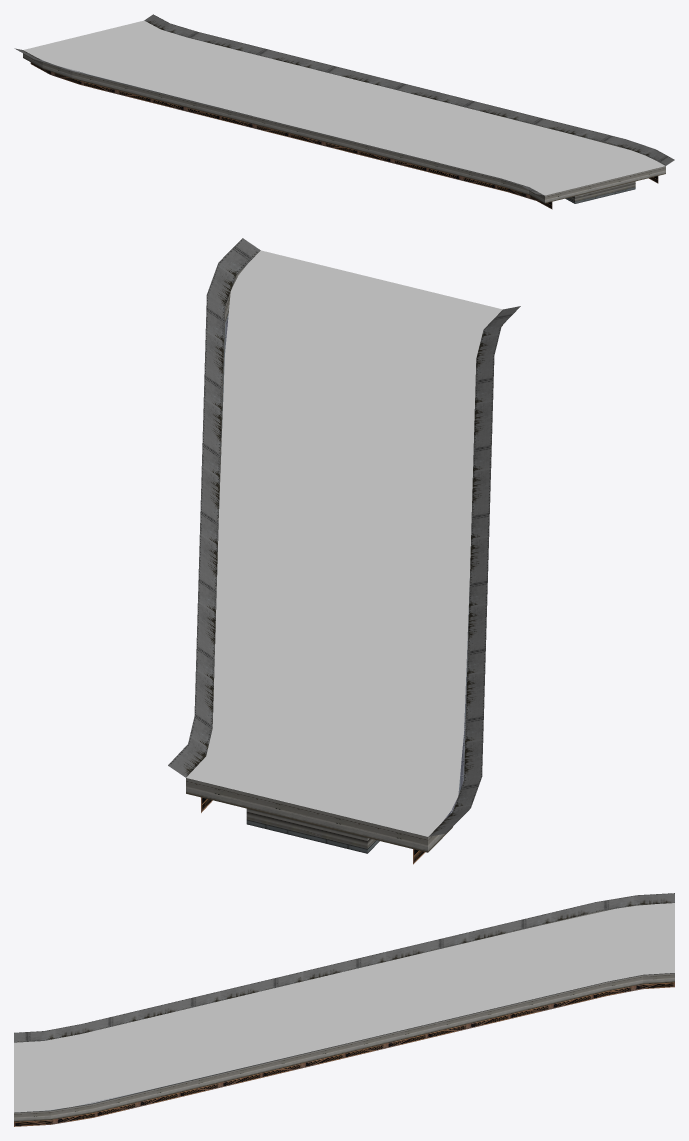
Rendered from Shear_L.fbx.
The picture shows the model from 3 angles, top to bottom: view 1: azimuth 30°, elevation 25°; view 2: azimuth 150°, elevation 25°; view 3: azimuth 270°, elevation 25°; orthographic projection. The views are drawn at different scales.
Visible parts, largest first — view 1: Empty_Mesh; view 2: Empty_Mesh; view 3: Empty_Mesh.
Part boxes in pixels (x1,y1,x2,y2): Empty_Mesh: (14,14,674,209); Empty_Mesh: (168,238,520,864); Empty_Mesh: (14,893,674,1126).
Bounding box in the file's own units: 50.4 × 2.5 × 64.
